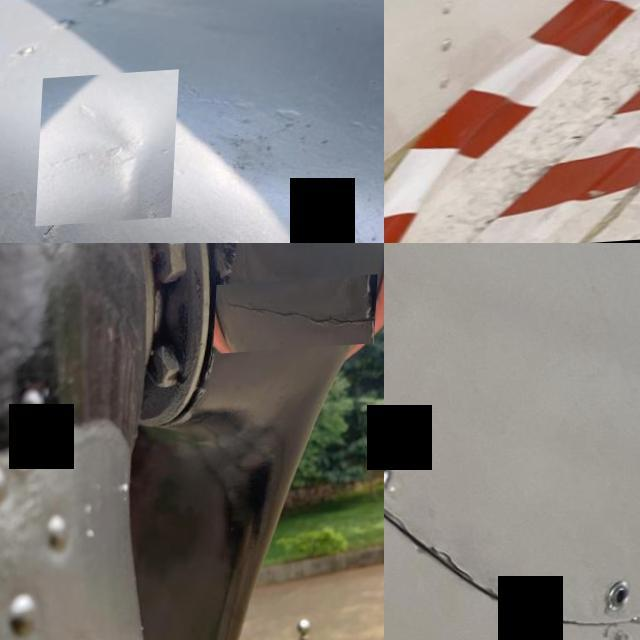Crack: (216, 280, 380, 358)
Dent: (40, 76, 182, 230)
Missing_Fastener: (600, 581, 638, 626)
